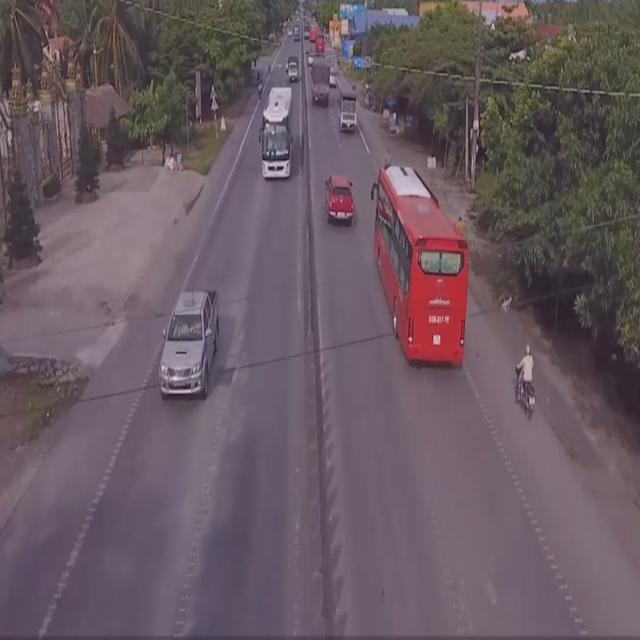bus: (372, 162, 469, 367), (260, 85, 295, 181)
car: (160, 286, 218, 403), (323, 173, 355, 229)
motorbike: (513, 346, 540, 420)
truck: (310, 62, 331, 107), (338, 90, 358, 136)
